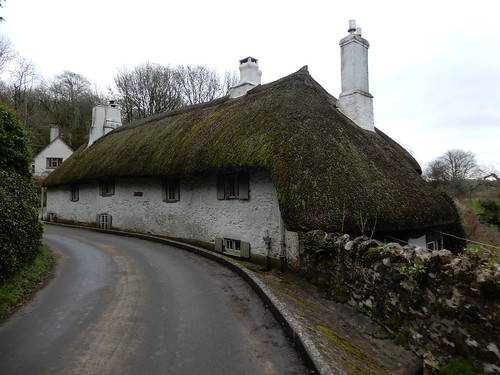medium: (43, 69, 468, 270)
